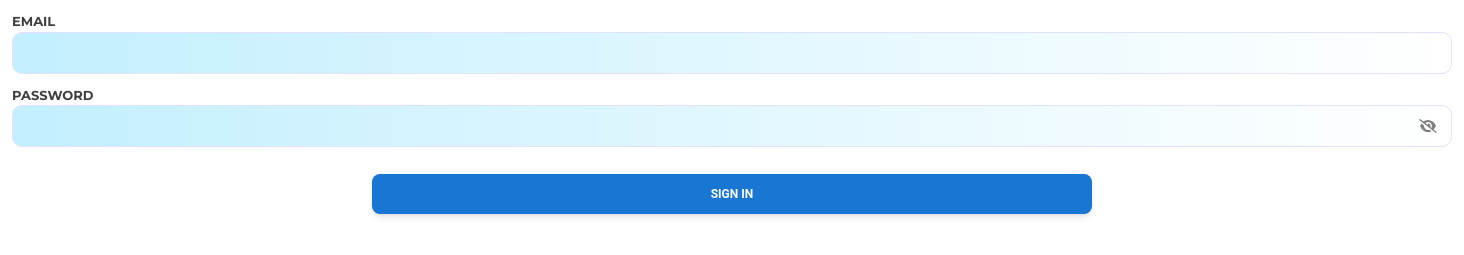
Login Form › should show password validation error when password is empty
The width and height of the screenshot is (1464, 255).
Type "test@example.com" into the field labelled "Email" at (732, 52), box [12,32,1452,74]
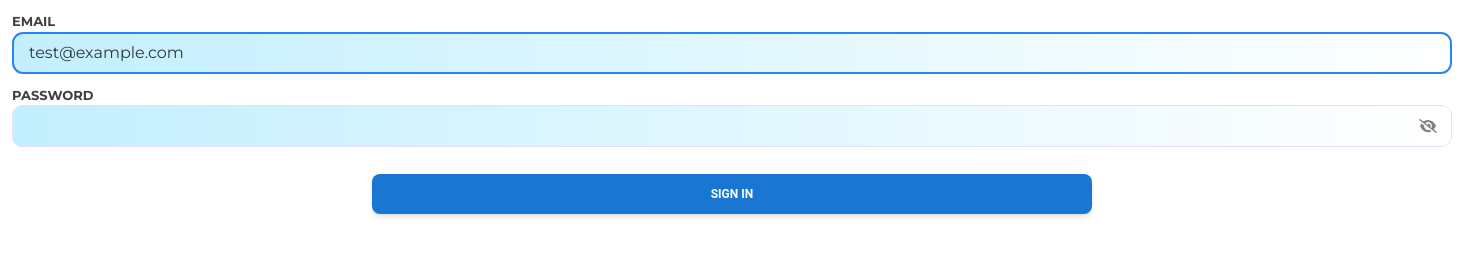
Click the button "Sign in" at (732, 194), box [372,174,1092,214]
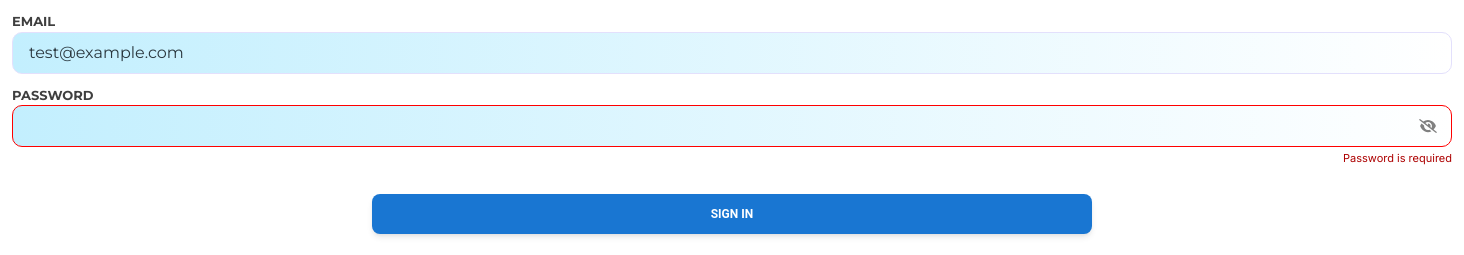
Result: the message reads "Password is required" at [1343,151,1452,165]
